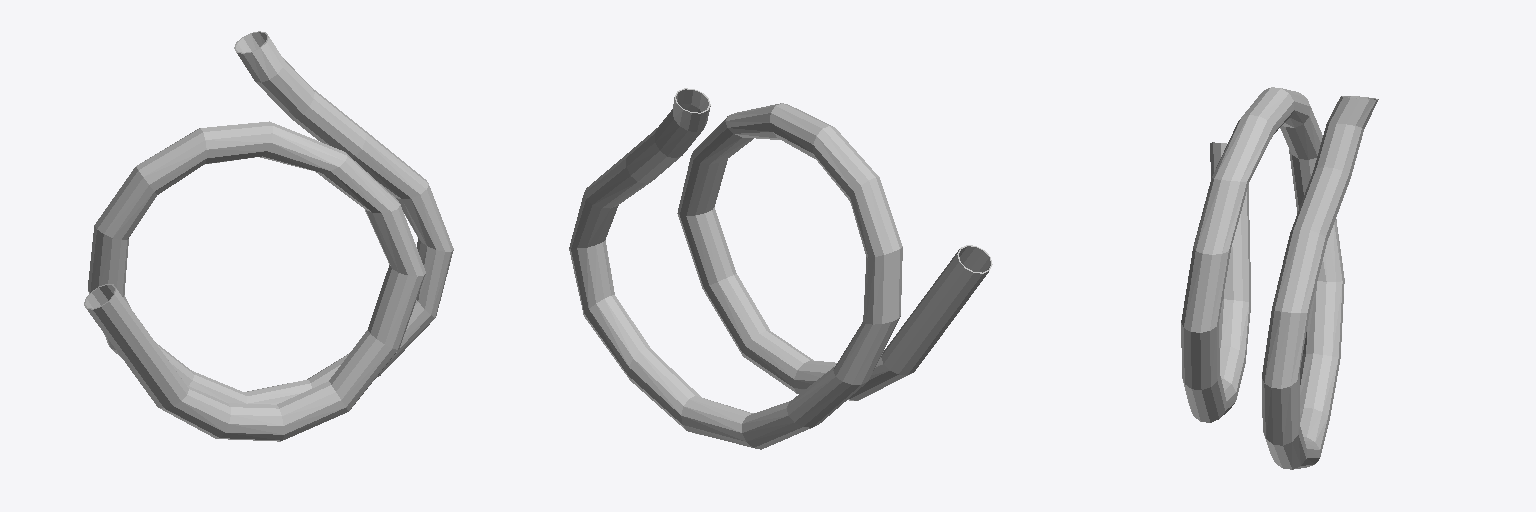
Rendered from HoverboardPipe.obj.
The picture shows the model from 3 angles: view 1: azimuth 30°, elevation 25°; view 2: azimuth 150°, elevation 25°; view 3: azimuth 270°, elevation 25°; orthographic projection.
Parts seen in each view (by area): view 1: HoverboardPipe; view 2: HoverboardPipe; view 3: HoverboardPipe.
Part boxes in pixels (left/top/right/bottom): HoverboardPipe: left=84, top=31, right=453, bottom=441; HoverboardPipe: left=569, top=88, right=992, bottom=449; HoverboardPipe: left=1181, top=87, right=1378, bottom=469.
Size of the model in its own units: 71.38 by 63.33 by 31.22.